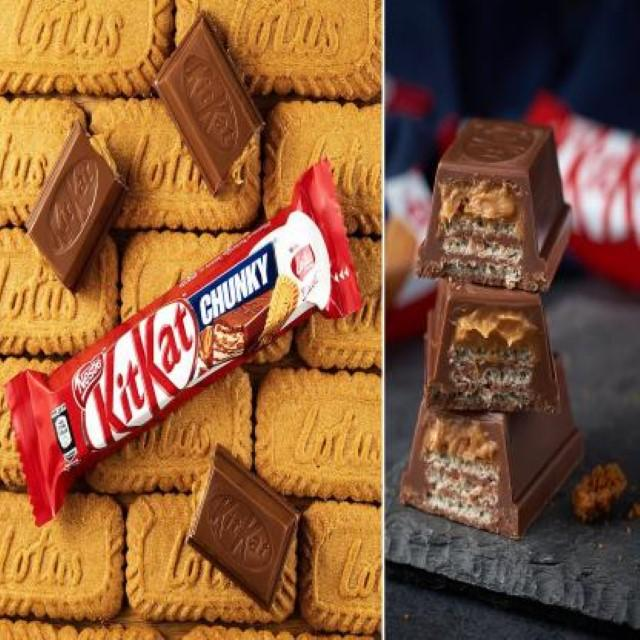kitkat_chocolate: (38, 208, 330, 482)
